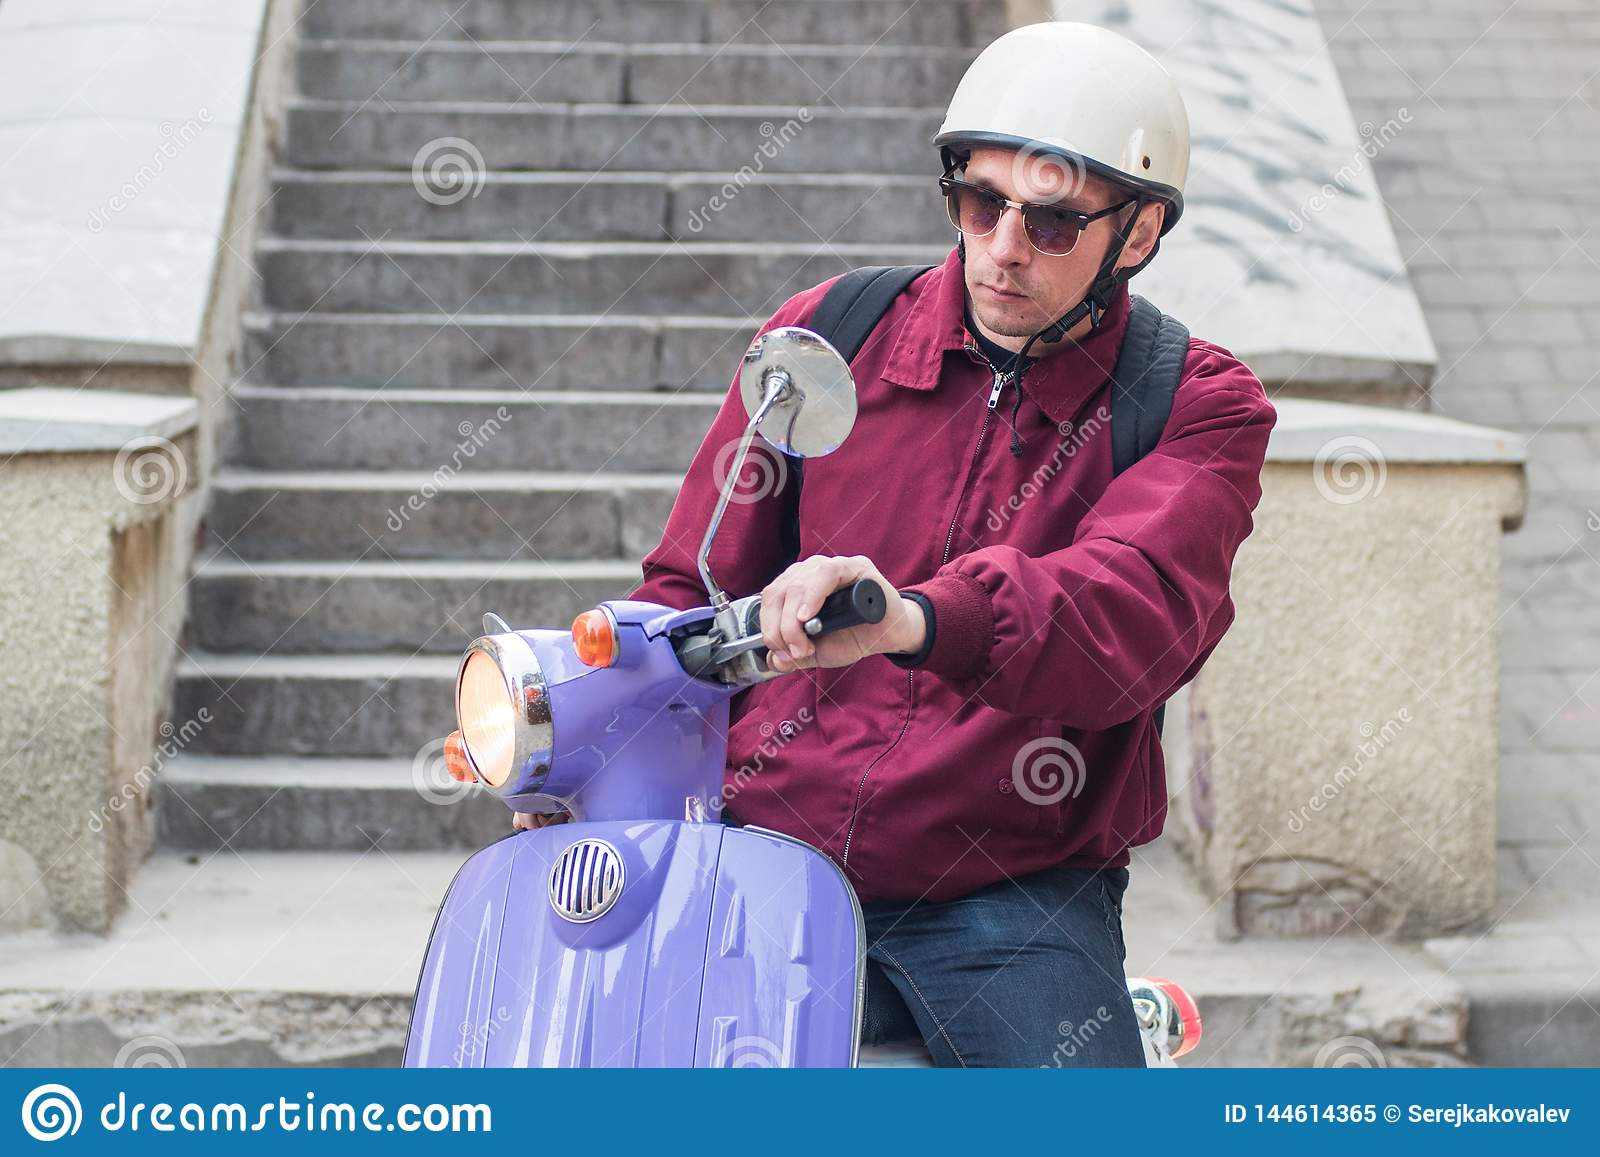helmet: (942, 9, 1191, 200)
